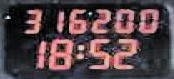0: (114, 7, 134, 32), (137, 7, 155, 32)
1: (35, 39, 45, 68), (55, 10, 62, 32)
2: (110, 36, 135, 67), (90, 9, 109, 33)
3: (22, 8, 40, 34)
5: (87, 38, 108, 69)
6: (67, 9, 85, 33)
8: (47, 39, 70, 68)
X: (74, 42, 84, 57)
